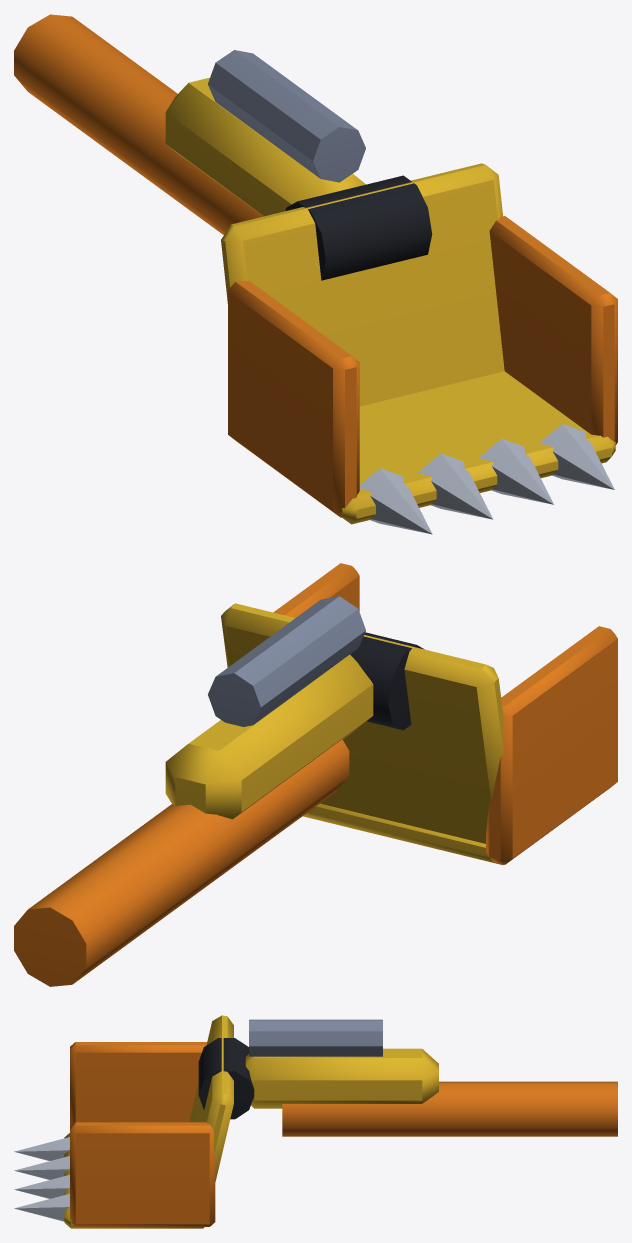
Rendered from w_b_wrecker.glb.
The picture shows the model from 3 angles, top to bottom: view 1: azimuth 30°, elevation 25°; view 2: azimuth 150°, elevation 25°; view 3: azimuth 270°, elevation 25°; orthographic projection. The views are drawn at different scales.
Parts seen in each view (by area): view 1: body; view 2: body; view 3: body.
Part boxes in pixels (box(x1,y1,x2,y2)): body: box(14, 14, 617, 534); body: box(14, 563, 617, 986); body: box(14, 1015, 617, 1228).
Size of the model in its own units: 0.375 by 0.35 by 1.08.
